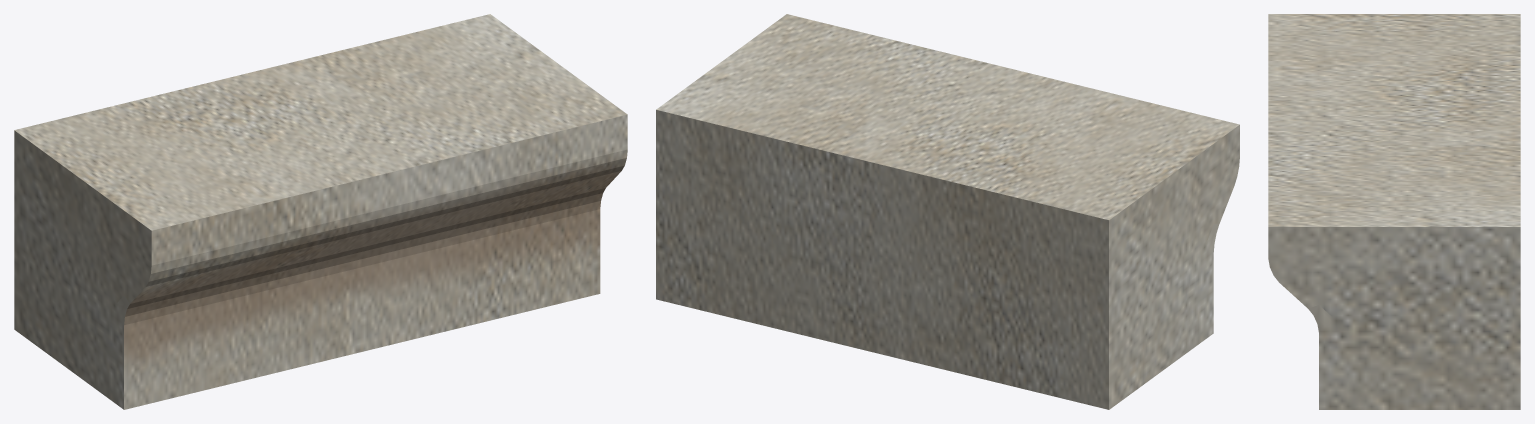
Rendered from TrimUnitX1m.fbx.
3 views of the same model, side by side, from view 1: azimuth 30°, elevation 25°; view 2: azimuth 150°, elevation 25°; view 3: azimuth 270°, elevation 25° (orthographic). The views are drawn at different scales.
Parts seen in each view (by area): view 1: Wall_2m75; view 2: Wall_2m75; view 3: Wall_2m75.
Part boxes in pixels (left/top/right/bottom): Wall_2m75: left=14, top=14, right=627, bottom=409; Wall_2m75: left=656, top=14, right=1239, bottom=409; Wall_2m75: left=1268, top=14, right=1520, bottom=409.
Bounding box in the file's own units: 100 × 40 × 50.
Materials: 1 (1 with a texture image).
